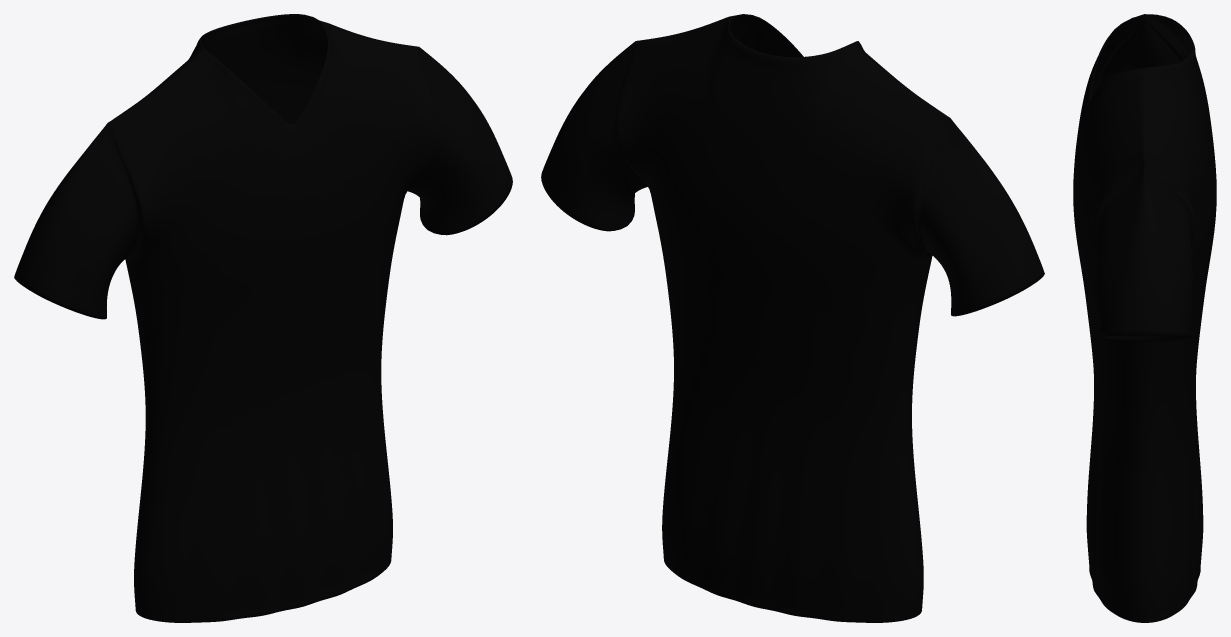
The model's file is multipart-customizer.glb.
The picture shows the model from 3 angles, left to right: view 1: azimuth 30°, elevation 25°; view 2: azimuth 150°, elevation 25°; view 3: azimuth 270°, elevation 25°; orthographic projection. The views are drawn at different scales.
Visible parts, largest first — view 1: shirt_front, shirt_base, shoulder_right, shoulder_left, neck_patch_front, neck_patch_back, shoulder_patch_right, collar, side_patch_right, shirt_back, side_patch_left, shoulder_patch_left; view 2: shirt_back, shirt_base, shoulder_right, shoulder_left, neck_patch_back, shoulder_patch_right, collar, shirt_front, neck_patch_front, shoulder_patch_left; view 3: shoulder_left, shirt_back, shirt_front, shoulder_patch_left, shirt_base, shoulder_right, neck_patch_back, collar, side_patch_left, neck_patch_front, shoulder_patch_right.
Boxes of the visible parts, x1,y1,x2,y2 form: shirt_front: (128, 177, 405, 622); shirt_base: (84, 58, 489, 319); shoulder_right: (45, 49, 231, 314); shoulder_left: (296, 20, 512, 215); neck_patch_front: (213, 40, 354, 178); neck_patch_back: (189, 22, 313, 97); shoulder_patch_right: (14, 124, 109, 298); collar: (194, 14, 332, 136); side_patch_right: (143, 465, 242, 575); shirt_back: (125, 118, 296, 614); side_patch_left: (339, 423, 387, 552); shoulder_patch_left: (420, 48, 512, 184); shirt_back: (649, 162, 929, 622); shirt_base: (564, 92, 973, 316); shoulder_right: (825, 43, 1012, 311); shoulder_left: (541, 15, 758, 211); neck_patch_back: (701, 32, 843, 164); shoulder_patch_right: (948, 119, 1044, 295); collar: (723, 14, 862, 68); shirt_front: (909, 254, 932, 614); neck_patch_front: (742, 20, 864, 57); shoulder_patch_left: (541, 42, 634, 180); shoulder_left: (1092, 68, 1196, 337); shirt_back: (1145, 149, 1216, 622); shirt_front: (1073, 163, 1144, 622); shoulder_patch_left: (1115, 162, 1174, 335); shirt_base: (1074, 71, 1214, 341); shoulder_right: (1095, 14, 1189, 84); neck_patch_back: (1162, 23, 1211, 158); collar: (1085, 14, 1195, 114); side_patch_left: (1091, 478, 1144, 548); neck_patch_front: (1076, 25, 1127, 166); shoulder_patch_right: (1126, 19, 1163, 71).
Bounding box in the file's own units: 2.78 × 3.03 × 0.7485.
1 material, 1 textured.
